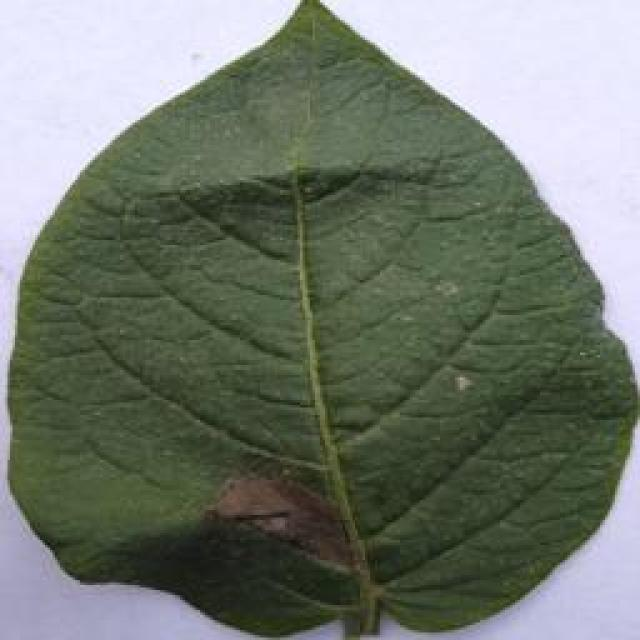Potato_Late_Blight: (4, 8, 634, 632)
